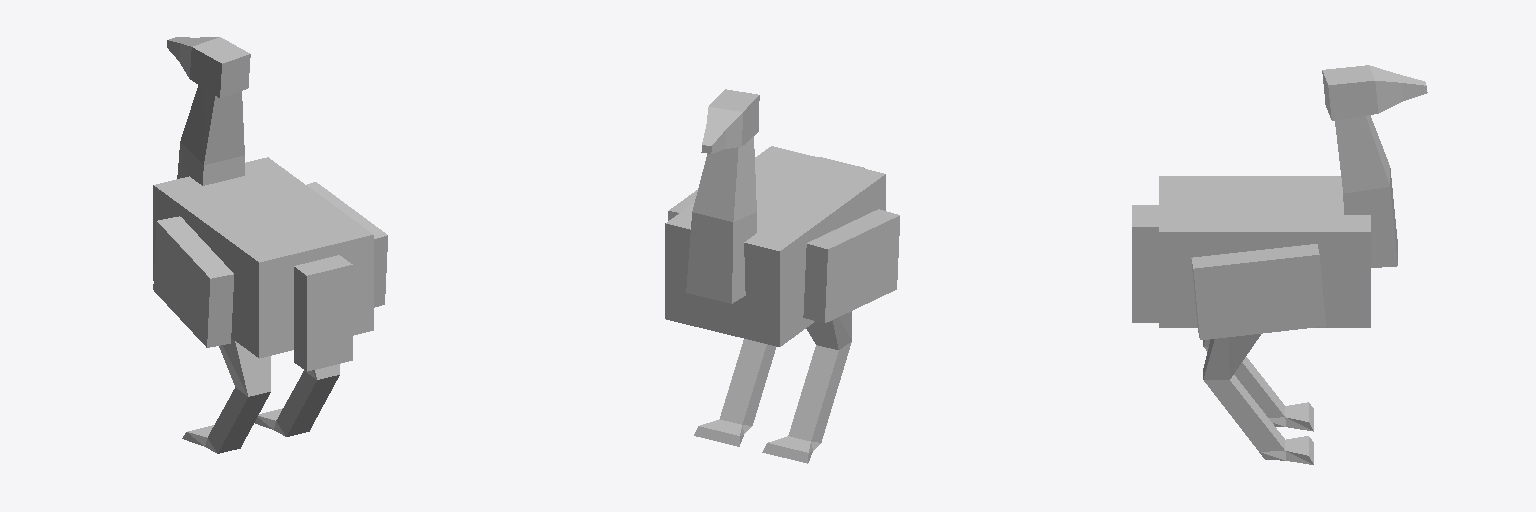
The model's file is Ostrich_000013.obj.
3 renders of one model, left to right at view 1: azimuth 30°, elevation 25°; view 2: azimuth 150°, elevation 25°; view 3: azimuth 270°, elevation 25°, orthographic.
Visible parts, largest first — view 1: Cube_Cube.001; view 2: Cube_Cube.001; view 3: Cube_Cube.001.
Part boxes in pixels (left/top/right/bottom): Cube_Cube.001: left=153, top=37, right=387, bottom=453; Cube_Cube.001: left=665, top=89, right=899, bottom=463; Cube_Cube.001: left=1132, top=65, right=1427, bottom=464.
Bounding box in the file's own units: 0.7766 × 1.51 × 1.12.